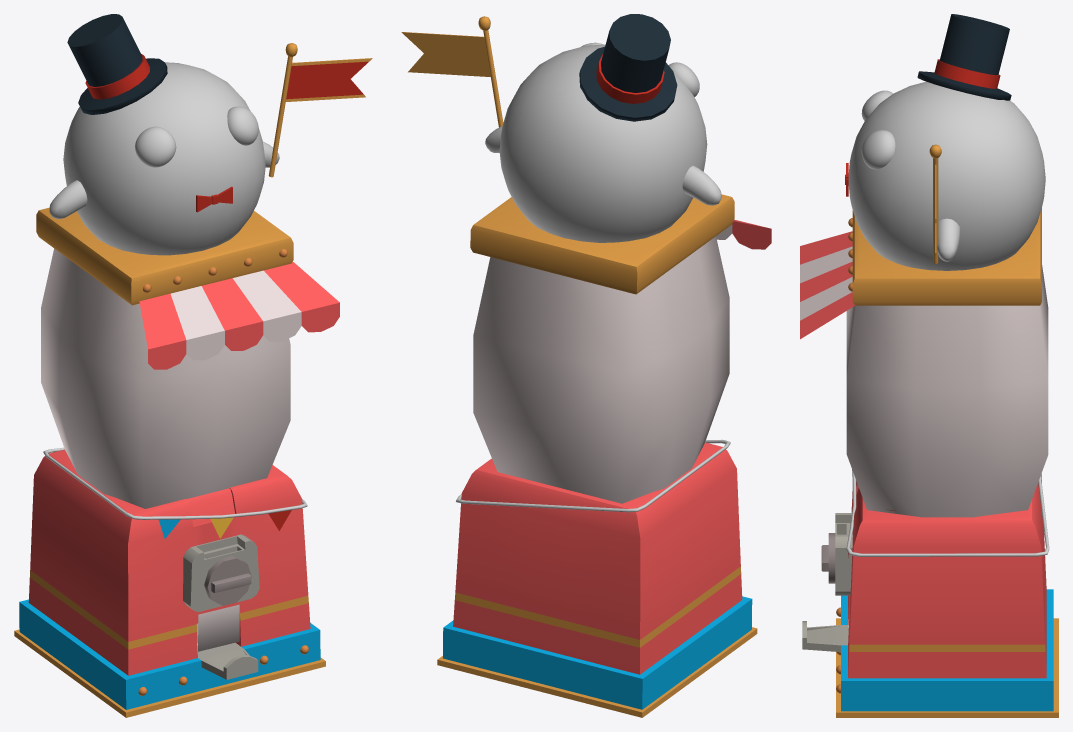
File: Slime_Machine 1.fbx
The picture shows the model from 3 angles, left to right: view 1: azimuth 30°, elevation 25°; view 2: azimuth 150°, elevation 25°; view 3: azimuth 270°, elevation 25°; orthographic projection. The views are drawn at different scales.
Visible parts, largest first — view 1: slime_machine1, slime_machine2, Slime_Base, Object001, slime_deco, handle1, cover; view 2: slime_machine1, slime_machine2, Slime_Base, Object001, slime_deco; view 3: slime_machine1, slime_machine2, Slime_Base, Object001, RightArm, slime_deco, handle1.
Boxes of the visible parts, x1=… form: slime_machine1: x1=14, y1=207, x2=339, y2=717; slime_machine2: x1=41, y1=248, x2=290, y2=508; Slime_Base: x1=49, y1=62, x2=265, y2=255; Object001: x1=67, y1=14, x2=232, y2=212; slime_deco: x1=268, y1=43, x2=372, y2=177; handle1: x1=204, y1=556, x2=251, y2=605; cover: x1=197, y1=604, x2=239, y2=651; slime_machine1: x1=437, y1=194, x2=771, y2=717; slime_machine2: x1=473, y1=236, x2=729, y2=503; Slime_Base: x1=499, y1=42, x2=721, y2=242; Object001: x1=579, y1=14, x2=677, y2=121; slime_deco: x1=401, y1=16, x2=503, y2=127; slime_machine1: x1=800, y1=208, x2=1058, y2=717; slime_machine2: x1=846, y1=265, x2=1048, y2=517; Slime_Base: x1=848, y1=81, x2=1045, y2=270; Object001: x1=845, y1=14, x2=1011, y2=196; RightArm: x1=937, y1=218, x2=960, y2=261; slime_deco: x1=929, y1=144, x2=941, y2=263; handle1: x1=821, y1=533, x2=835, y2=583.
Size of the model in its own units: 125 by 88.95 by 240.
